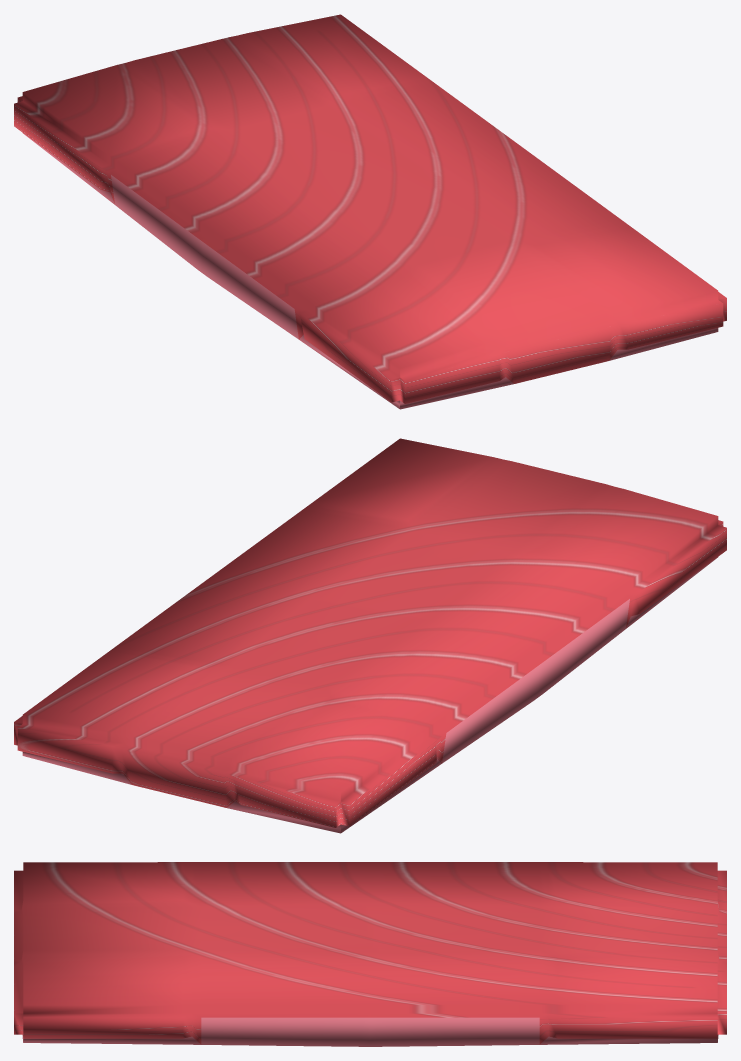
The model's file is Tuna_Slice.glb.
3 renders of one model, top to bottom at view 1: azimuth 30°, elevation 25°; view 2: azimuth 150°, elevation 25°; view 3: azimuth 270°, elevation 25°, orthographic. The views are drawn at different scales.
Visible parts, largest first — view 1: Tuna_Slice; view 2: Tuna_Slice; view 3: Tuna_Slice.
Part boxes in pixels (x1,y1,x2,y2): Tuna_Slice: (14,14,726,409); Tuna_Slice: (14,438,726,833); Tuna_Slice: (14,862,726,1046).
Size of the model in its own units: 0.155 by 0.0207 by 0.31.
2 materials, 1 textured.
